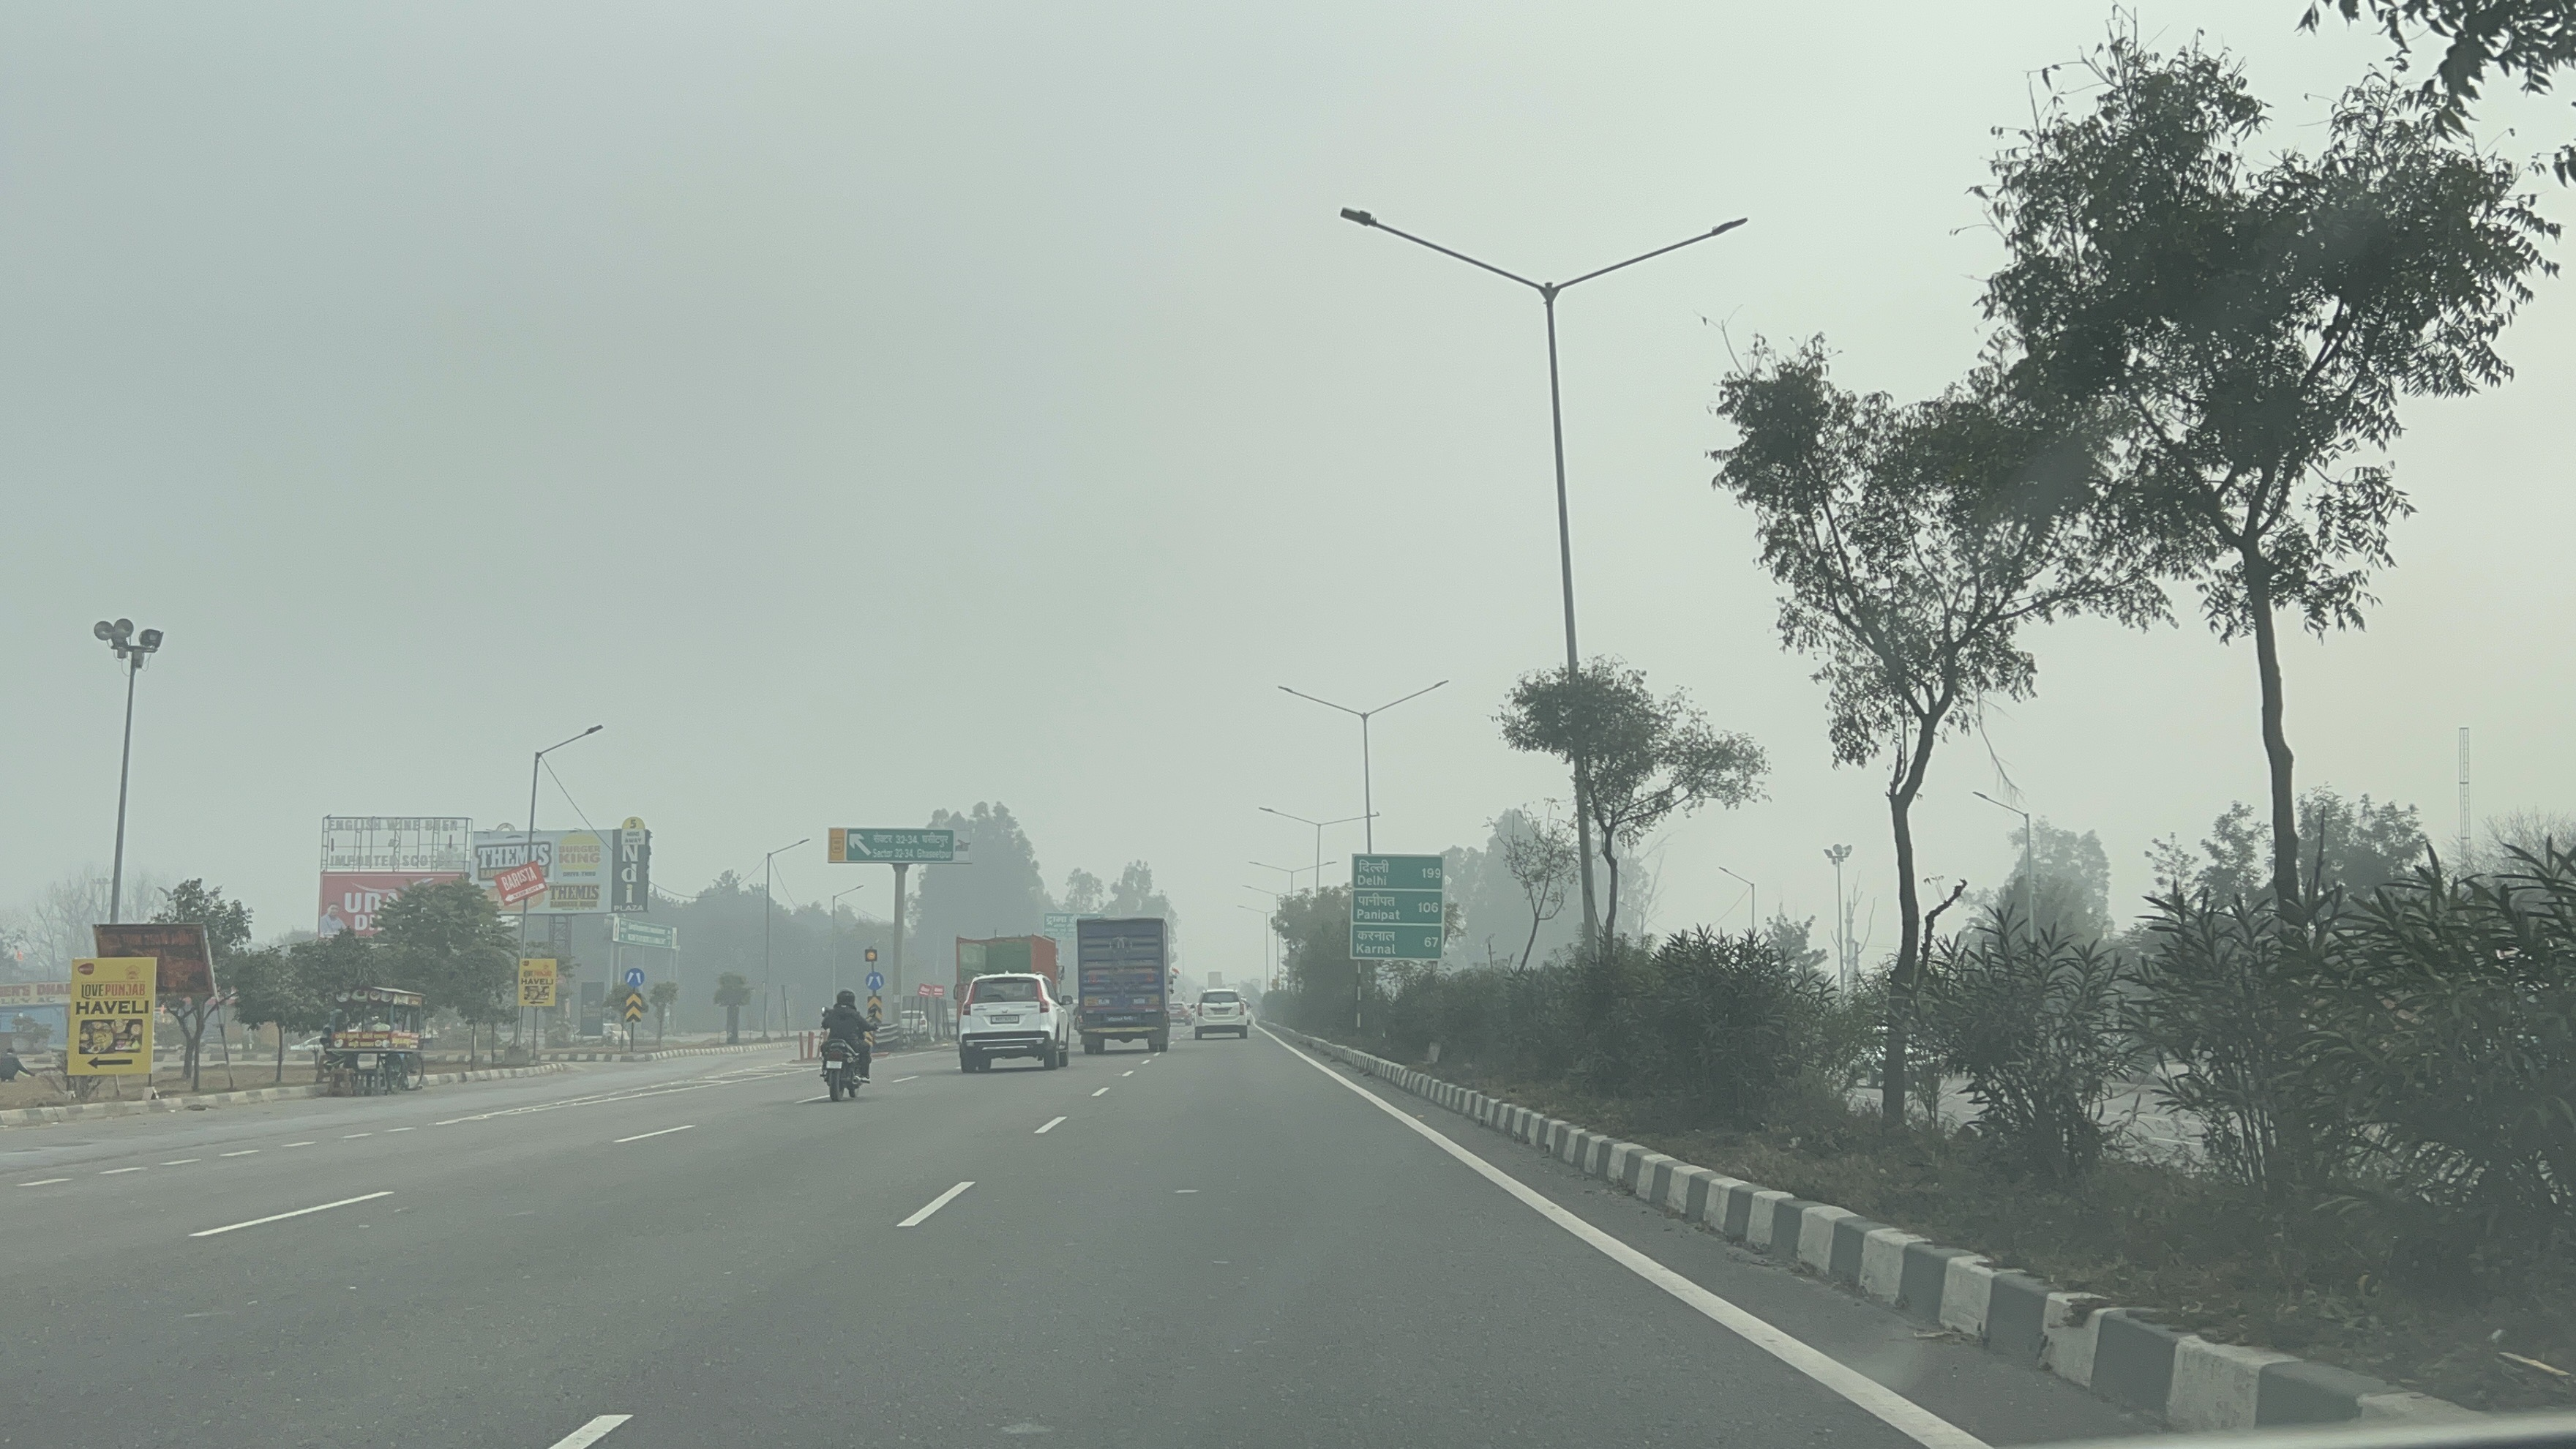General: (614, 985, 651, 1035)
Informatory: (1343, 846, 1456, 973), (842, 819, 966, 876)
Regulatory: (614, 955, 653, 998), (855, 964, 893, 998)
